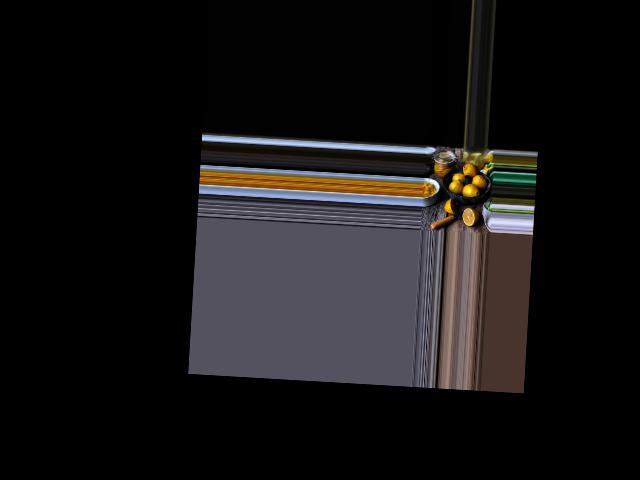lemon: (448, 179, 463, 195)
